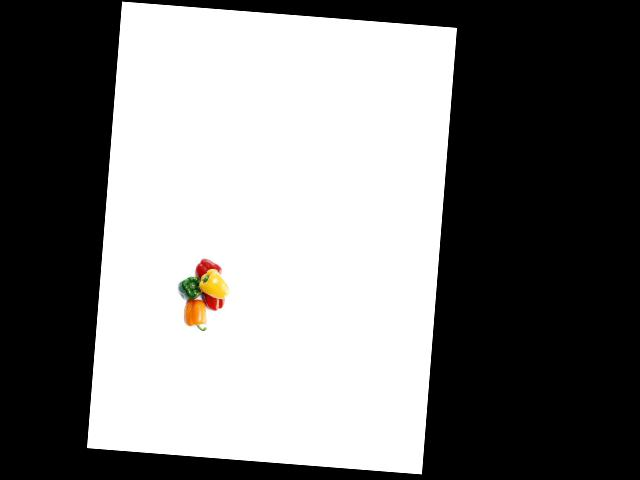bell_pepper: (173, 269, 209, 303)
